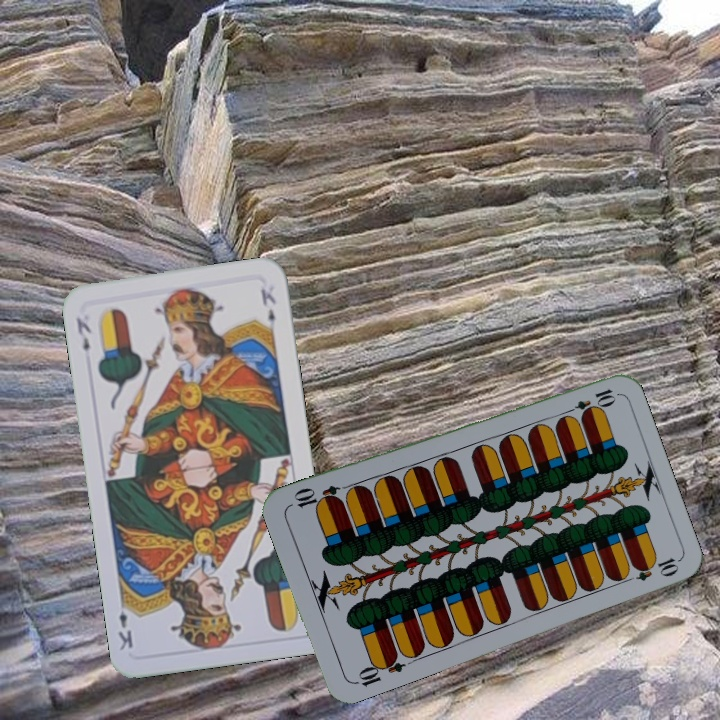E10: (350, 650, 407, 689), (560, 384, 618, 419)
EK: (72, 313, 94, 354)
